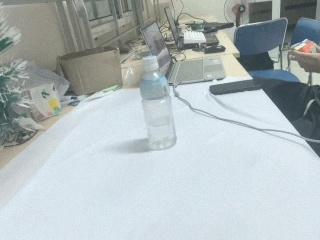bottle: (140, 54, 178, 151)
box: (56, 47, 123, 97)
mouse: (208, 79, 258, 96)
